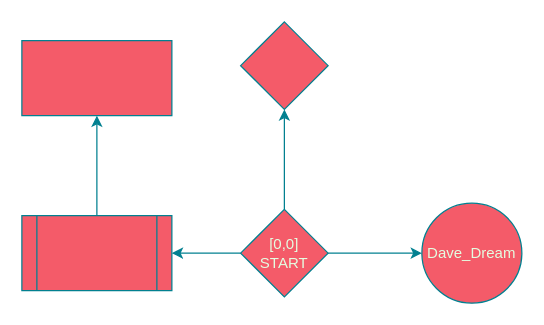
Some shapes in this 544 by 325 pixel diagram are drawn without their labels. Here are the shapes that lost their labels. From the top down, the centre of each, then its label:
At point (283, 65): "[0,1] Train -N".
At point (96, 252): "[1,0] Town S/W".
